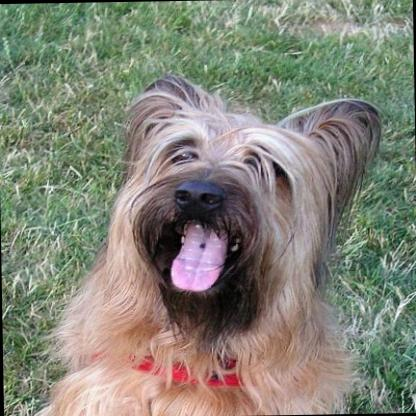briard: (28, 69, 387, 416)
